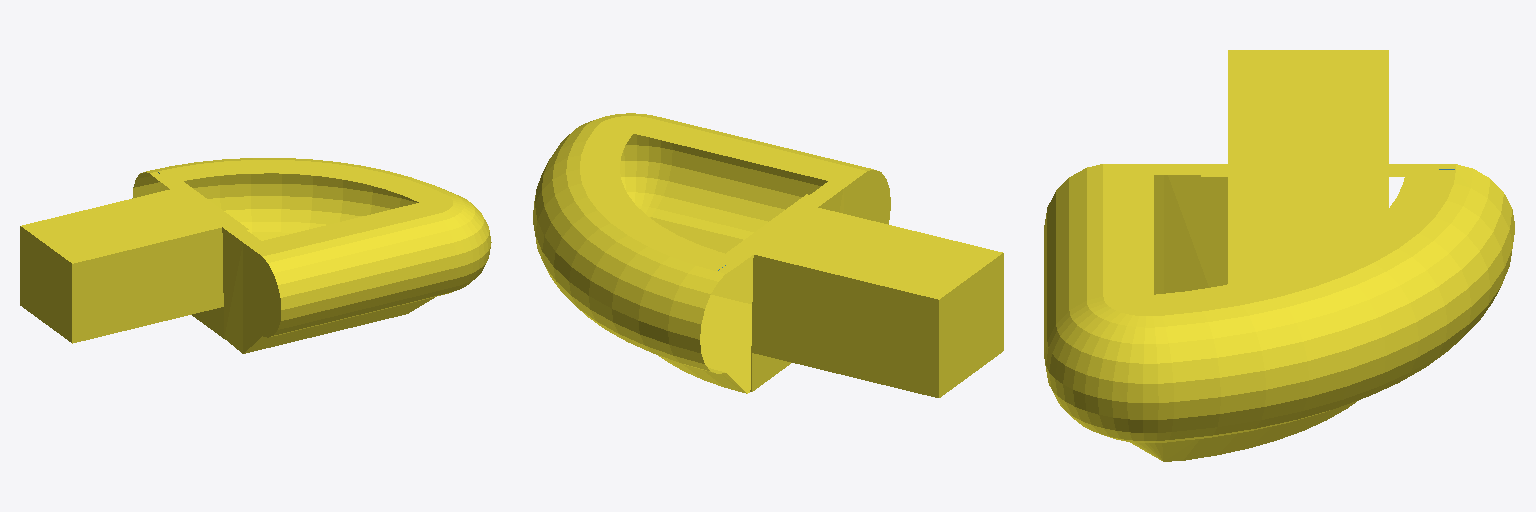
robot.urdf — partnet_1065a548dee0058d89cf6a343602477f:
<?xml version="1.0" ?>
<robot name="partnet_1065a548dee0058d89cf6a343602477f">
	<link name="base"/>
	<link name="link_0">
		<visual name="leg-1">
			<origin xyz="-0.6682690913230187 0 -0.09310087148658952"/>
			<geometry>
				<mesh filename="textured_objs/original-10.obj" scale="0.3 0.3 0.3"/>
			</geometry>
		</visual>
		<visual name="leg-1">
			<origin xyz="-0.6682690913230187 0 -0.09310087148658952"/>
			<geometry>
				<mesh filename="textured_objs/original-8.obj" scale="0.3 0.3 0.3"/>
			</geometry>
		</visual>
		<visual name="leg-1">
			<origin xyz="-0.6682690913230187 0 -0.09310087148658952"/>
			<geometry>
				<mesh filename="textured_objs/original-4.obj" scale="0.3 0.3 0.3"/>
			</geometry>
		</visual>
		<collision>
			<origin xyz="-0.6682690913230187 0 -0.09310087148658952"/>
			<geometry>
				<mesh filename="textured_objs/original-10.obj" scale="0.3 0.3 0.3"/>
			</geometry>
		</collision>
		<collision>
			<origin xyz="-0.6682690913230187 0 -0.09310087148658952"/>
			<geometry>
				<mesh filename="textured_objs/original-8.obj" scale="0.3 0.3 0.3"/>
			</geometry>
		</collision>
		<collision>
			<origin xyz="-0.6682690913230187 0 -0.09310087148658952"/>
			<geometry>
				<mesh filename="textured_objs/original-4.obj" scale="0.3 0.3 0.3"/>
			</geometry>
		</collision>
	</link>
	<joint name="joint_0" type="revolute">
		<origin xyz="0.6682690913230187 0 0.09310087148658952"/>
		<axis xyz="0 1 0"/>
		<child link="link_0"/>
		<parent link="link_2"/>
		<limit lower="0.0" upper="1.3962634015954636"/>
	</joint>
	<link name="link_1">
		<visual name="leg-2">
			<origin xyz="0.6724743528813114 0 -0.09162359257228703"/>
			<geometry>
				<mesh filename="textured_objs/original-9.obj" scale="0.3 0.3 0.3"/>
			</geometry>
		</visual>
		<visual name="leg-2">
			<origin xyz="0.6724743528813114 0 -0.09162359257228703"/>
			<geometry>
				<mesh filename="textured_objs/original-5.obj" scale="0.3 0.3 0.3"/>
			</geometry>
		</visual>
		<visual name="leg-2">
			<origin xyz="0.6724743528813114 0 -0.09162359257228703"/>
			<geometry>
				<mesh filename="textured_objs/original-11.obj" scale="0.3 0.3 0.3"/>
			</geometry>
		</visual>
		<collision>
			<origin xyz="0.6724743528813114 0 -0.09162359257228703"/>
			<geometry>
				<mesh filename="textured_objs/original-9.obj" scale="0.3 0.3 0.3"/>
			</geometry>
		</collision>
		<collision>
			<origin xyz="0.6724743528813114 0 -0.09162359257228703"/>
			<geometry>
				<mesh filename="textured_objs/original-5.obj" scale="0.3 0.3 0.3"/>
			</geometry>
		</collision>
		<collision>
			<origin xyz="0.6724743528813114 0 -0.09162359257228703"/>
			<geometry>
				<mesh filename="textured_objs/original-11.obj" scale="0.3 0.3 0.3"/>
			</geometry>
		</collision>
	</link>
	<joint name="joint_1" type="revolute">
		<origin xyz="-0.6724743528813114 0 0.09162359257228703"/>
		<axis xyz="0 -1 0"/>
		<child link="link_1"/>
		<parent link="link_2"/>
		<limit lower="-0.0" upper="1.3962634015954636"/>
	</joint>
	<link name="link_2">
		<visual name="base_body-3">
			<origin xyz="0 0 0"/>
			<geometry>
				<mesh filename="textured_objs/original-3.obj" scale="0.3 0.3 0.3"/>
			</geometry>
		</visual>
		<visual name="base_body-3">
			<origin xyz="0 0 0"/>
			<geometry>
				<mesh filename="textured_objs/original-2.obj" scale="0.3 0.3 0.3"/>
			</geometry>
		</visual>
		<visual name="base_body-3">
			<origin xyz="0 0 0"/>
			<geometry>
				<mesh filename="textured_objs/original-6.obj" scale="0.3 0.3 0.3"/>
			</geometry>
		</visual>
		<visual name="base_body-3">
			<origin xyz="0 0 0"/>
			<geometry>
				<mesh filename="textured_objs/original-7.obj" scale="0.3 0.3 0.3"/>
			</geometry>
		</visual>
		<visual name="base_body-3">
			<origin xyz="0 0 0"/>
			<geometry>
				<mesh filename="textured_objs/original-1.obj" scale="0.3 0.3 0.3"/>
			</geometry>
		</visual>
		<collision>
			<origin xyz="0 0 0"/>
			<geometry>
				<mesh filename="textured_objs/original-3.obj" scale="0.3 0.3 0.3"/>
			</geometry>
		</collision>
		<collision>
			<origin xyz="0 0 0"/>
			<geometry>
				<mesh filename="textured_objs/original-2.obj" scale="0.3 0.3 0.3"/>
			</geometry>
		</collision>
		<collision>
			<origin xyz="0 0 0"/>
			<geometry>
				<mesh filename="textured_objs/original-6.obj" scale="0.3 0.3 0.3"/>
			</geometry>
		</collision>
		<collision>
			<origin xyz="0 0 0"/>
			<geometry>
				<mesh filename="textured_objs/original-7.obj" scale="0.3 0.3 0.3"/>
			</geometry>
		</collision>
		<collision>
			<origin xyz="0 0 0"/>
			<geometry>
				<mesh filename="textured_objs/original-1.obj" scale="0.3 0.3 0.3"/>
			</geometry>
		</collision>
	</link>
	<joint name="joint_2" type="fixed">
		<origin rpy="1.570796326794897 0 -1.570796326794897" xyz="0 0 0"/>
		<child link="link_2"/>
		<parent link="base"/>
	</joint>
</robot>

--- Render facts (derived) ---
Views: 3 orthographic renders of the robot side by side, from view 1: azimuth 30°, elevation 25°; view 2: azimuth 150°, elevation 25°; view 3: azimuth 270°, elevation 25°.
Model partnet_1065a548dee0058d89cf6a343602477f with 4 links and 3 joints (2 revolute, 1 fixed), rooted at base, posed every joint at zero.
Links seen in each view (by area): view 1: link_2; view 2: link_2; view 3: link_2.
Link boxes in pixels (left/top/right/bottom): link_2: left=20, top=158, right=491, bottom=353; link_2: left=533, top=113, right=1003, bottom=397; link_2: left=1044, top=50, right=1514, bottom=461.
Size in the robot's own frame: 0.1104 by 0.0754 by 0.0308 metres.
Meshes: 11 distinct files referenced, 2 mesh visuals loaded (2 OBJ); not drawn: 9 (reference not matched to a file when rendering).